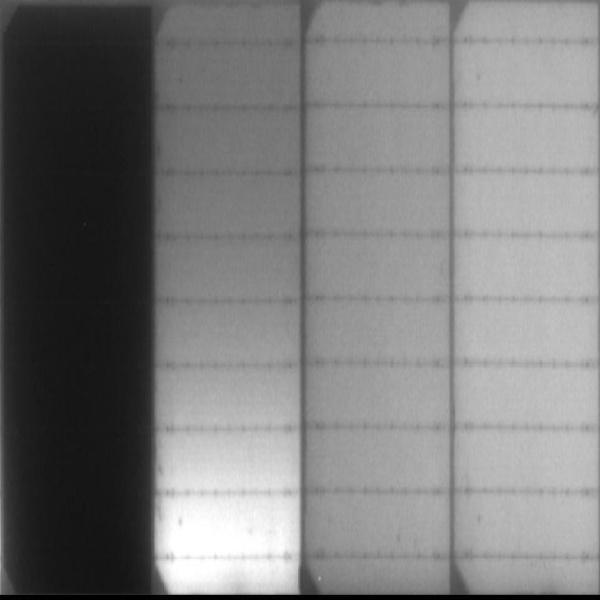hot_spot: (168, 520, 265, 554), (175, 558, 275, 579)
no_electricity: (1, 3, 151, 594)
